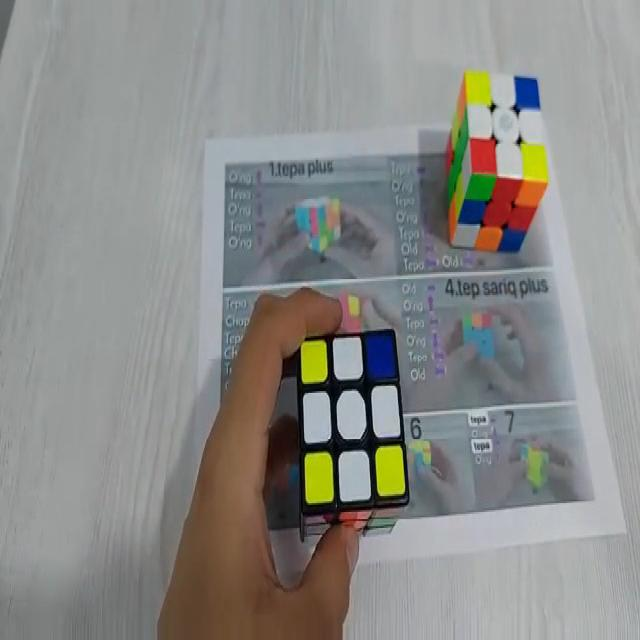Rub: (297, 328, 410, 540), (446, 68, 549, 250)
